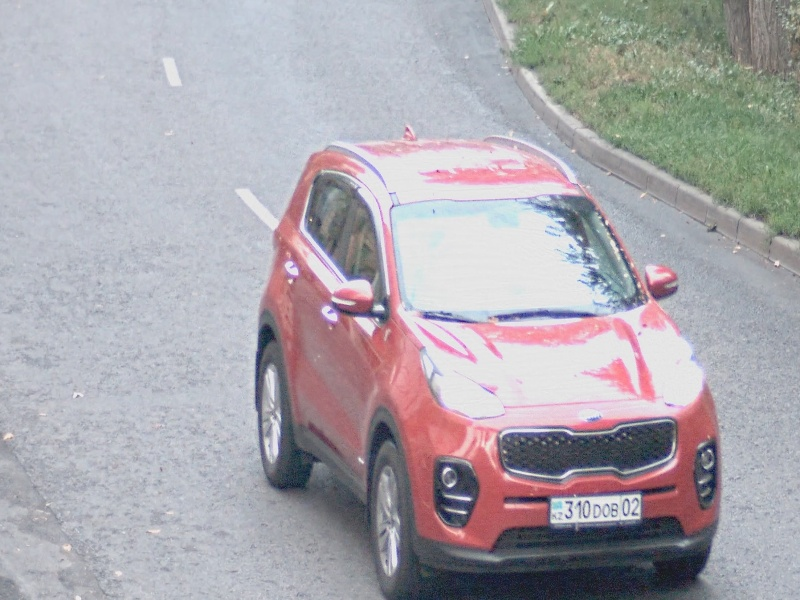plate: (546, 488, 645, 530)
